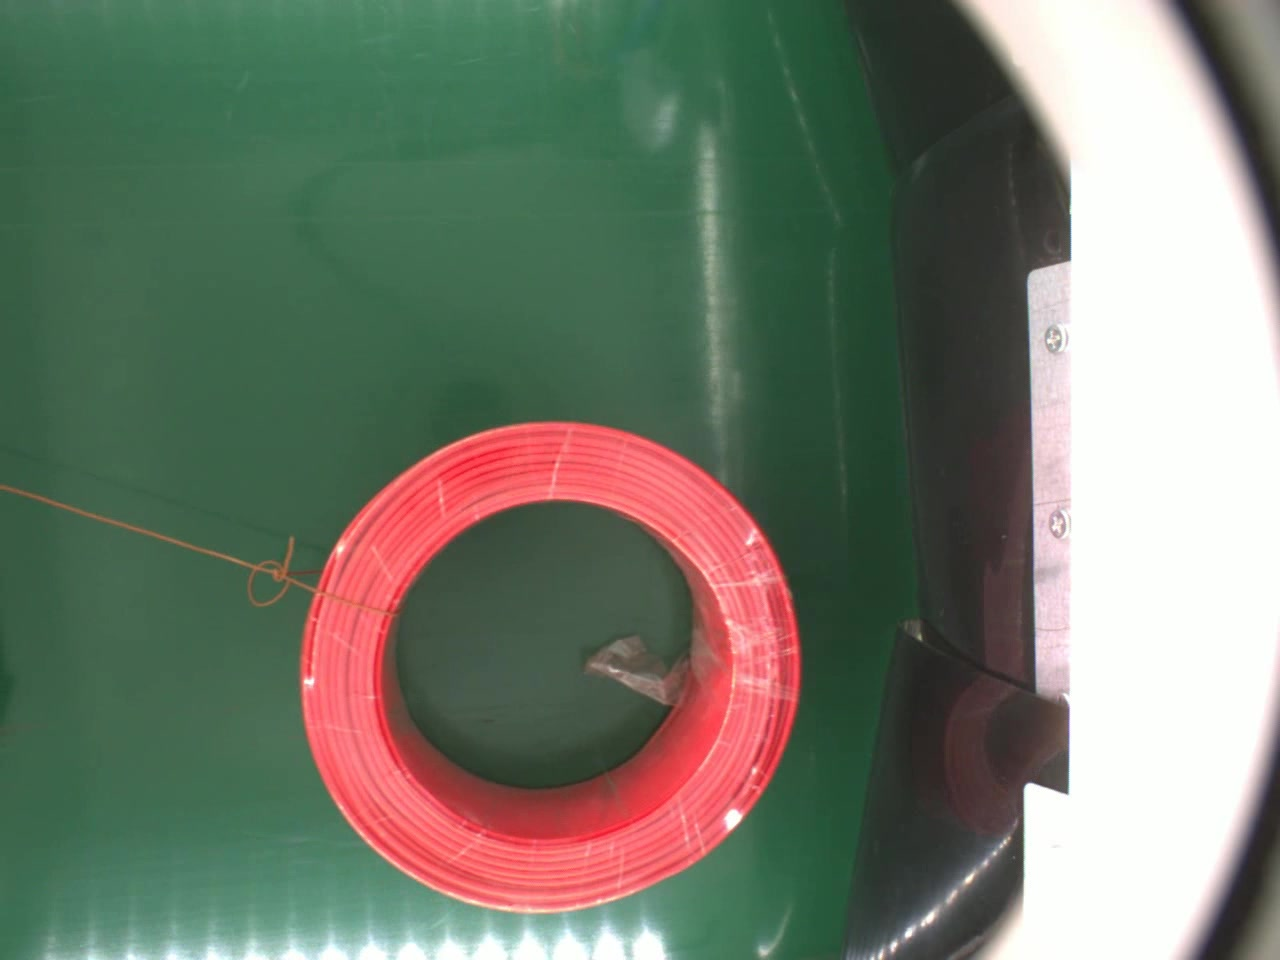red: (295, 414, 805, 914)
